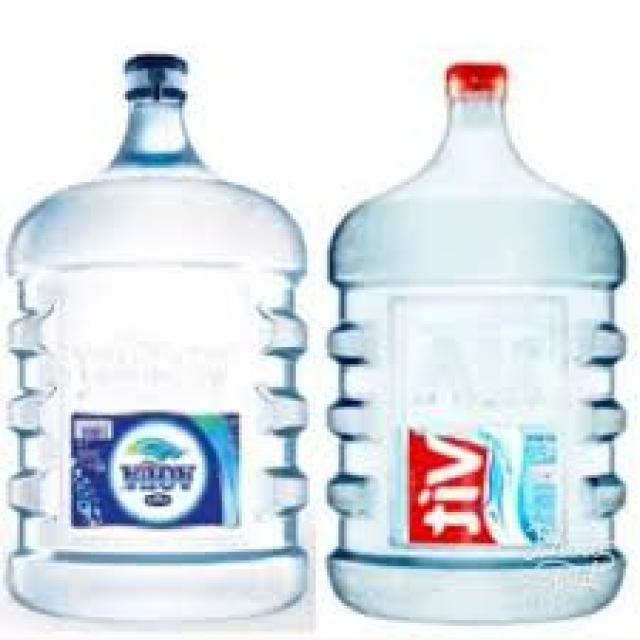Galon: (0, 48, 310, 623), (322, 57, 628, 623)
